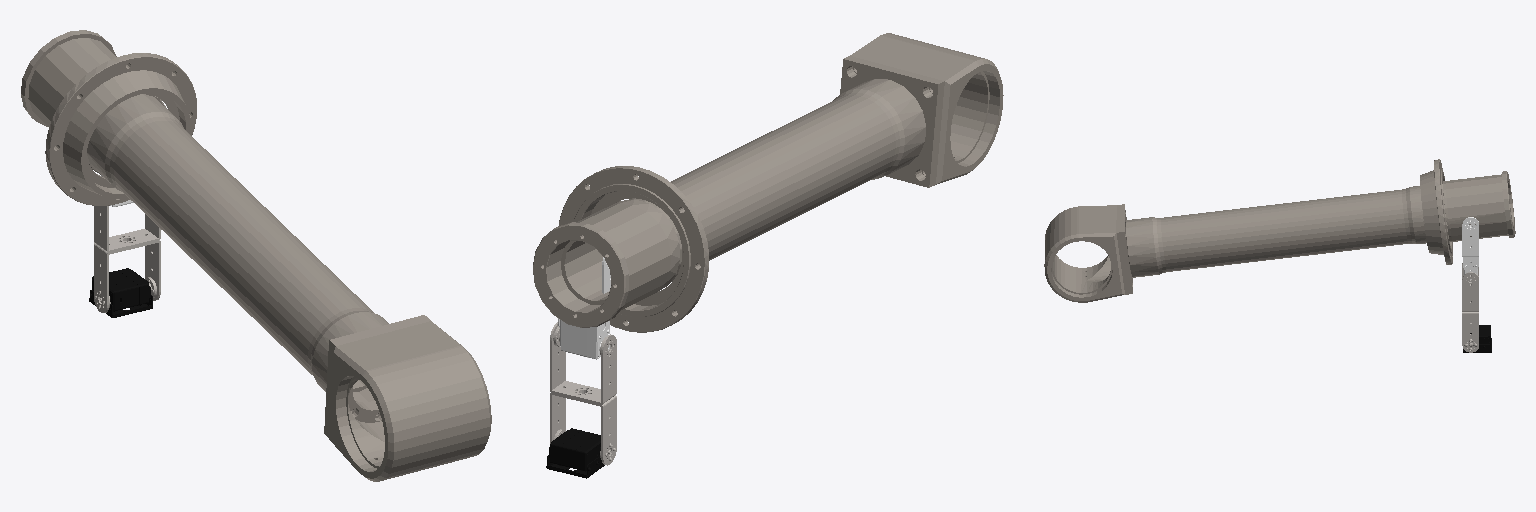
robot.urdf — learm_5_25:
<?xml version="1.0" encoding="utf-8"?>
<!-- This URDF was automatically created by SolidWorks to URDF Exporter! Originally created by [author] ([email redacted]) 
     Commit Version: 1.5.1-0-g916b5db  Build Version: 1.5.7152.31018
     For more information, please see http://wiki.ros.org/sw_urdf_exporter -->
<robot
  name="learm_5_25">
  <link
    name="base_link">
    <inertial>
      <origin
        xyz="2.46385237980473E-06 0.0254977102058984 0.0305564348363482"
        rpy="0 0 0" />
      <mass
        value="0.17619713237721" />
      <inertia
        ixx="0.000798111880764019"
        ixy="8.18703865429116E-08"
        ixz="-3.94345336429032E-08"
        iyy="0.000317952999149377"
        iyz="0.000127554150564884"
        izz="0.00084263858295119" />
    </inertial>
    <visual>
      <origin
        xyz="0 0 0"
        rpy="0 0 0" />
      <geometry>
        <mesh
          filename="package://learm_5_25/meshes/base_link.STL" />
      </geometry>
      <material
        name="">
        <color
          rgba="0.949019607843137 0.756862745098039 0.176470588235294 1" />
      </material>
    </visual>
    <collision>
      <origin
        xyz="0 0 0"
        rpy="0 0 0" />
      <geometry>
        <mesh
          filename="package://learm_5_25/meshes/base_link.STL" />
      </geometry>
    </collision>
  </link>
  <link
    name="link0">
    <inertial>
      <origin
        xyz="0.00224451522426888 1.05560671126992E-05 0.0154944104510803"
        rpy="0 0 0" />
      <mass
        value="0.0286579374199262" />
      <inertia
        ixx="5.30819404271062E-06"
        ixy="-5.57403498238814E-08"
        ixz="-8.0742594562955E-08"
        iyy="4.98912764783618E-06"
        iyz="7.16693759936086E-09"
        izz="7.58530025869853E-06" />
    </inertial>
    <visual>
      <origin
        xyz="0 0 0"
        rpy="0 0 0" />
      <geometry>
        <mesh
          filename="package://learm_5_25/meshes/link0.STL" />
      </geometry>
      <material
        name="">
        <color
          rgba="0.0980392156862745 0.0980392156862745 0.0980392156862745 1" />
      </material>
    </visual>
    <collision>
      <origin
        xyz="0 0 0"
        rpy="0 0 0" />
      <geometry>
        <mesh
          filename="package://learm_5_25/meshes/link0.STL" />
      </geometry>
    </collision>
  </link>
  <joint
    name="joint0"
    type="revolute">
    <origin
      xyz="0 0 0.06975"
      rpy="0 0 0" />
    <parent
      link="base_link" />
    <child
      link="link0" />
    <axis
      xyz="0 0 1" />
    <limit
      lower="-1.5707"
      upper="1.5707"
      effort="0"
      velocity="0" />
  </joint>
  <link
    name="link1">
    <inertial>
      <origin
        xyz="0.0275226686028112 2.76349856609404E-08 0.0506788490451032"
        rpy="0 0 0" />
      <mass
        value="0.0198914095628994" />
      <inertia
        ixx="2.48620631283226E-05"
        ixy="-1.39734204803498E-11"
        ixz="3.27759383947162E-07"
        iyy="3.56469935698872E-05"
        iyz="2.77403946115186E-11"
        izz="1.26982753344168E-05" />
    </inertial>
    <visual>
      <origin
        xyz="0 0 0"
        rpy="0 0 0" />
      <geometry>
        <mesh
          filename="package://learm_5_25/meshes/link1.STL" />
      </geometry>
      <material
        name="">
        <color
          rgba="0.776470588235294 0.756862745098039 0.737254901960784 1" />
      </material>
    </visual>
    <collision>
      <origin
        xyz="0 0 0"
        rpy="0 0 0" />
      <geometry>
        <mesh
          filename="package://learm_5_25/meshes/link1.STL" />
      </geometry>
    </collision>
  </link>
  <joint
    name="joint1"
    type="revolute">
    <origin
      xyz="-0.02654 -0.01 0.01675"
      rpy="0 0 0" />
    <parent
      link="link0" />
    <child
      link="link1" />
    <axis
      xyz="1 0 0" />
    <limit
      lower="-1.5707"
      upper="1.5707"
      effort="0"
      velocity="0" />
  </joint>
  <link
    name="link2">
    <inertial>
      <origin
        xyz="0.0284558473177569 -1.29064357302366E-05 0.0232660143334867"
        rpy="0 0 0" />
      <mass
        value="0.037295726885176" />
      <inertia
        ixx="2.59024674913942E-05"
        ixy="1.06704891413493E-08"
        ixz="8.6438772080701E-08"
        iyy="3.3218739689147E-05"
        iyz="3.14040378589029E-08"
        izz="1.02627810402498E-05" />
    </inertial>
    <visual>
      <origin
        xyz="0 0 0"
        rpy="0 0 0" />
      <geometry>
        <mesh
          filename="package://learm_5_25/meshes/link2.STL" />
      </geometry>
      <material
        name="">
        <color
          rgba="1 1 1 1" />
      </material>
    </visual>
    <collision>
      <origin
        xyz="0 0 0"
        rpy="0 0 0" />
      <geometry>
        <mesh
          filename="package://learm_5_25/meshes/link2.STL" />
      </geometry>
    </collision>
  </link>
  <joint
    name="joint2"
    type="revolute">
    <origin
      xyz="0 0 0.104"
      rpy="0 0 0" />
    <parent
      link="link1" />
    <child
      link="link2" />
    <axis
      xyz="1 0 0" />
    <limit
      lower="-1.5707"
      upper="1.5707"
      effort="0"
      velocity="0" />
  </joint>
  <link
    name="link3">
    <inertial>
      <origin
        xyz="0.024315608353302 -0.0122137148801496 0.0184633293651121"
        rpy="0 0 0" />
      <mass
        value="0.047272278331732" />
      <inertia
        ixx="2.80012896238346E-05"
        ixy="-1.52529513704552E-07"
        ixz="3.37277771247991E-07"
        iyy="2.31249789189665E-05"
        iyz="-2.54592001965734E-07"
        izz="1.41850933655293E-05" />
    </inertial>
    <visual>
      <origin
        xyz="0 0 0"
        rpy="0 0 0" />
      <geometry>
        <mesh
          filename="package://learm_5_25/meshes/link3.STL" />
      </geometry>
      <material
        name="">
        <color
          rgba="0.647058823529412 0.619607843137255 0.588235294117647 1" />
      </material>
    </visual>
    <collision>
      <origin
        xyz="0 0 0"
        rpy="0 0 0" />
      <geometry>
        <mesh
          filename="package://learm_5_25/meshes/link3.STL" />
      </geometry>
    </collision>
  </link>
  <joint
    name="joint3"
    type="revolute">
    <origin
      xyz="-0.0022101 0 0.08852"
      rpy="0 0 0" />
    <parent
      link="link2" />
    <child
      link="link3" />
    <axis
      xyz="1 0 0" />
    <limit
      lower="-1.5707"
      upper="1.5707"
      effort="0"
      velocity="0" />
  </joint>
  <link
    name="link4">
    <inertial>
      <origin
        xyz="-0.00188220291887803 -0.0100027871080556 0.038335858540356"
        rpy="0 0 0" />
      <mass
        value="0.0416048632001602" />
      <inertia
        ixx="2.73037587589265E-05"
        ixy="-5.9736016097338E-09"
        ixz="-3.77602897355887E-07"
        iyy="2.95058876308224E-05"
        iyz="-3.87245767117971E-06"
        izz="2.07007345443875E-05" />
    </inertial>
    <visual>
      <origin
        xyz="0 0 0"
        rpy="0 0 0" />
      <geometry>
        <mesh
          filename="package://learm_5_25/meshes/link4.STL" />
      </geometry>
      <material
        name="">
        <color
          rgba="1 1 1 1" />
      </material>
    </visual>
    <collision>
      <origin
        xyz="0 0 0"
        rpy="0 0 0" />
      <geometry>
        <mesh
          filename="package://learm_5_25/meshes/link4.STL" />
      </geometry>
    </collision>
  </link>
  <joint
    name="joint4"
    type="revolute">
    <origin
      xyz="0.025281 -0.0007415 0.061651"
      rpy="0 0 0" />
    <parent
      link="link3" />
    <child
      link="link4" />
    <axis
      xyz="0 0 -1" />
    <limit
      lower="-1.5707"
      upper="1.5707"
      effort="0"
      velocity="0" />
  </joint>
  <link name="gripper"/>
  <joint name="gripper_joint" type="fixed">
    <orignin 
        xyz="0 0 0.12" 
        rpy="0 0 0"/>
    <parent
      link="link4"/>
    <child
      link="gripper"/>
  </joint>
</robot>

--- Render facts (derived) ---
3 views of the same robot in one strip: view 1: azimuth 30°, elevation 25°; view 2: azimuth 150°, elevation 25°; view 3: azimuth 270°, elevation 25° (orthographic).
Model learm_5_25 with 7 links and 6 joints (5 revolute, 1 fixed), rooted at base_link, posed all joints at 0.
Visible links, largest first — view 1: link3, link1, link0; view 2: link3, link1, link0, link2; view 3: link3, link1, link2.
Boxes of the visible links, left/top/right/bottom form: link3: left=21, top=30, right=491, bottom=481; link1: left=94, top=206, right=160, bottom=312; link0: left=89, top=268, right=152, bottom=317; link3: left=533, top=33, right=1003, bottom=332; link1: left=550, top=322, right=616, bottom=465; link0: left=546, top=428, right=604, bottom=478; link2: left=558, top=257, right=610, bottom=359; link3: left=1044, top=159, right=1515, bottom=302; link1: left=1462, top=263, right=1478, bottom=352; link2: left=1462, top=217, right=1478, bottom=279.
Size in the robot's own frame: 0.155 by 0.688 by 0.2805 metres.
Meshes: 6 distinct files referenced, 4 mesh visuals loaded (4 binary STL); not drawn: 2 (reference not matched to a file when rendering).